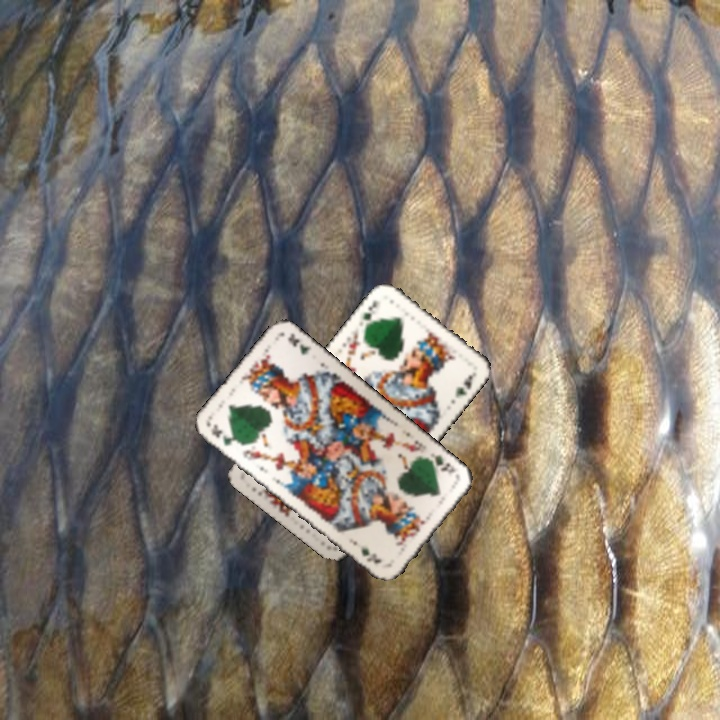GK: (207, 420, 242, 449), (424, 449, 458, 476), (359, 296, 380, 330)
